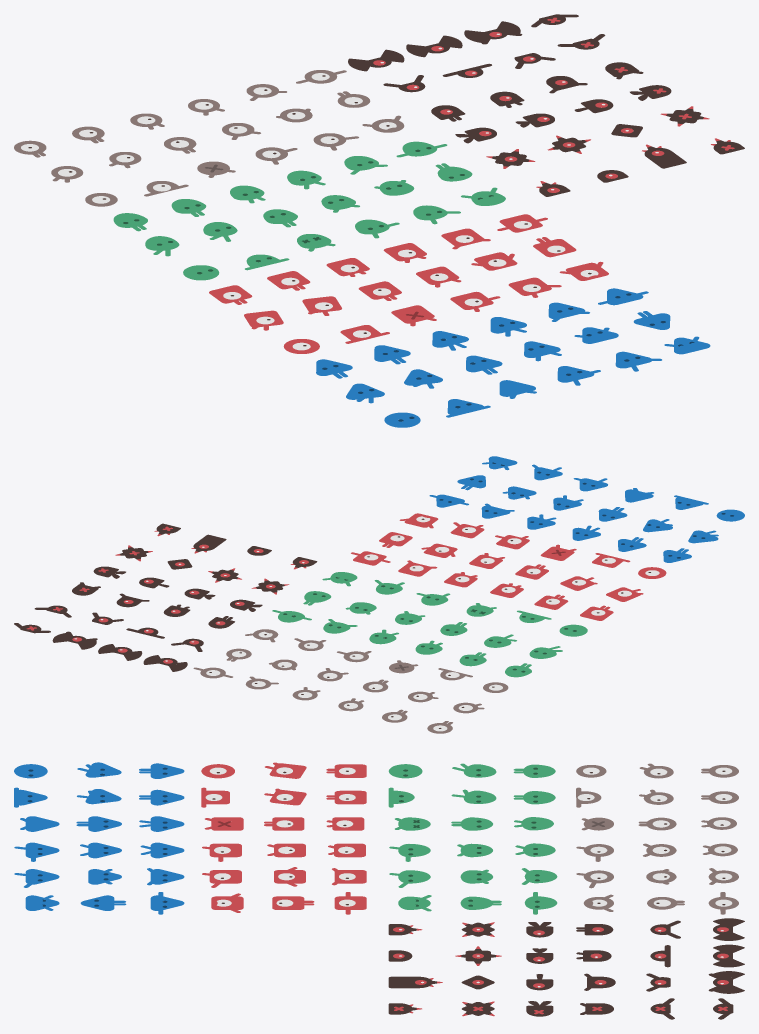
File: SC_Abstract_Characters.fbx
3 renders of one model, top to bottom at view 1: azimuth 30°, elevation 25°; view 2: azimuth 150°, elevation 25°; view 3: azimuth 270°, elevation 25°, orthographic. The views are drawn at different scales.
Parts seen in each view (by area): view 1: Curve.278; view 2: no part large enough to name; view 3: Curve.278, Curve.274, Curve.268, Curve.257, Curve.1065, Curve.1055, Curve.1076, Curve.1077, Curve.1066, Curve.1061, Curve.1049, Curve.1067 (+19 smaller).
Boxes of the visible parts, box(x1,y1,x2,y2) form: Curve.278: box(464, 21, 522, 44); Curve.278: box(708, 971, 744, 993); Curve.274: box(388, 976, 442, 988); Curve.268: box(713, 944, 744, 967); Curve.257: box(713, 918, 744, 940); Curve.1065: box(202, 843, 241, 861); Curve.1055: box(326, 790, 366, 804); Curve.1076: box(272, 896, 314, 909); Curve.1077: box(334, 892, 366, 914); Curve.1066: box(267, 843, 305, 857); Curve.1061: box(264, 817, 304, 830); Curve.1049: box(326, 764, 366, 777); Curve.1067: box(328, 843, 365, 857).
Bounding box in the file's own units: 0.2034 × 0 × 0.2444.
